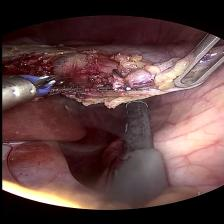Bipolar: (7, 70, 74, 100)
Grasper: (171, 33, 224, 90)
